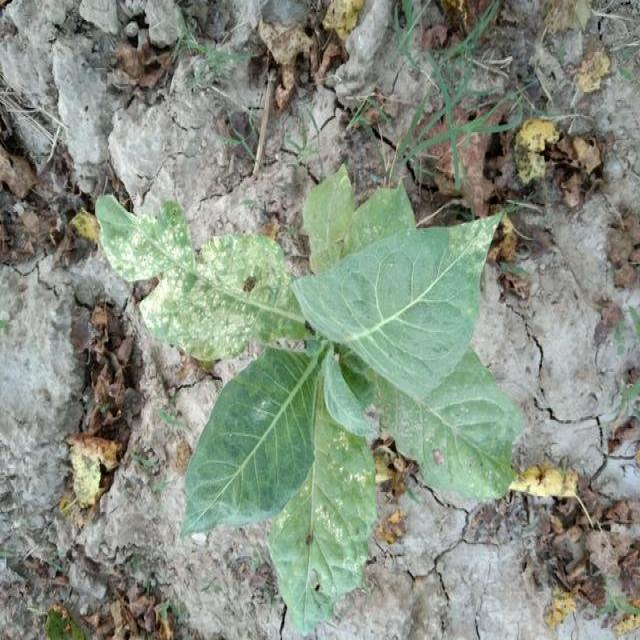crop: (94, 163, 523, 640)
